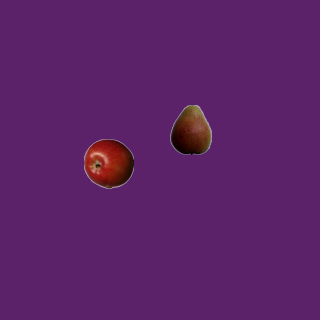Apple Braeburn: (83, 138, 133, 188)
Pear Forelle: (165, 104, 215, 154)
